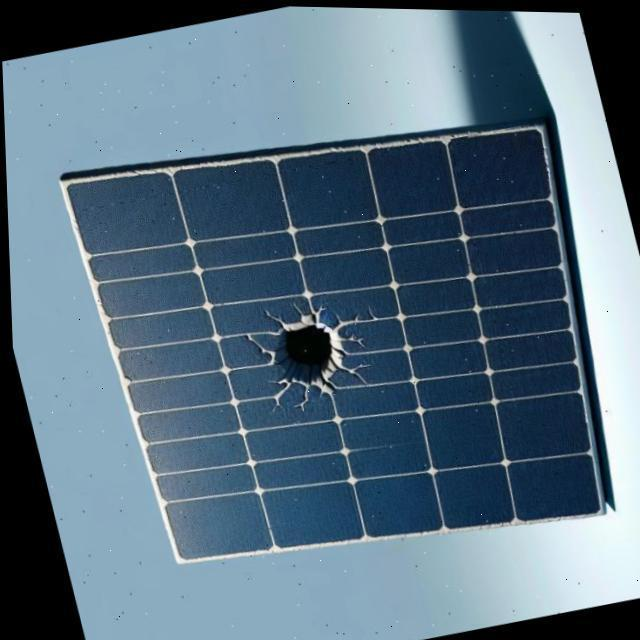Anomaly Solar Panel: (60, 127, 600, 568)
Structural Damage: (252, 300, 357, 409), (257, 380, 292, 416), (236, 330, 272, 362), (331, 358, 367, 387), (285, 383, 313, 416), (336, 333, 364, 348), (284, 298, 298, 316)
